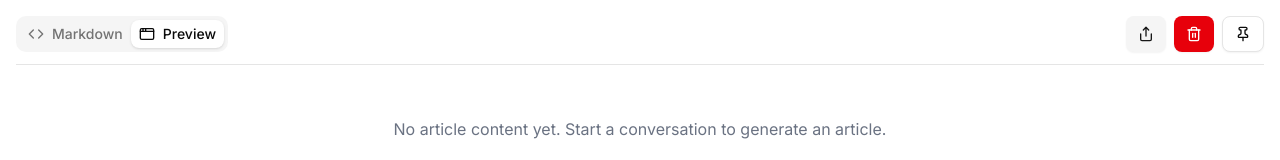
Test: Article › the input typed in the markdown tab should render properly in the preview tab
Click the tab "Markdown" at coordinates (75, 34), box x1=20 y1=20 x2=131 y2=48
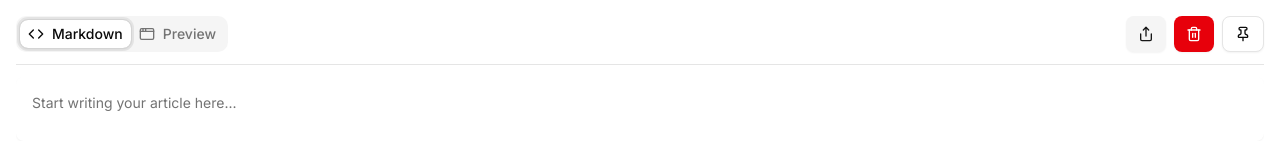
Type "> Hello *World!*" into the text box with test id "markdown-input" at coordinates (640, 109), box x1=16 y1=77 x2=1264 y2=141
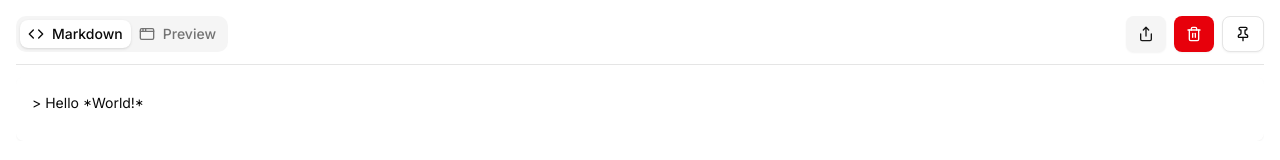
Click the tab "Preview" at coordinates (177, 34), box x1=131 y1=20 x2=224 y2=48
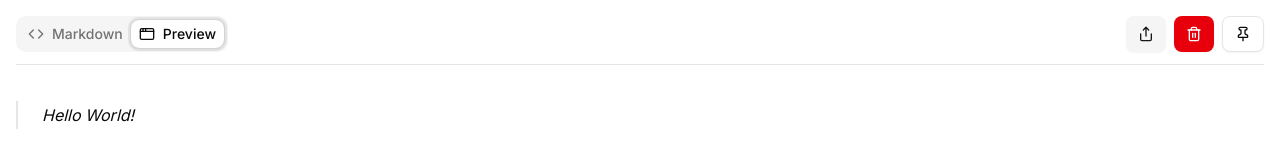
Check: the element with test id "preview-output" reads "Hello World!", box x1=16 y1=101 x2=1264 y2=129
Check: the text "World!" is shown, box x1=85 y1=105 x2=134 y2=125
